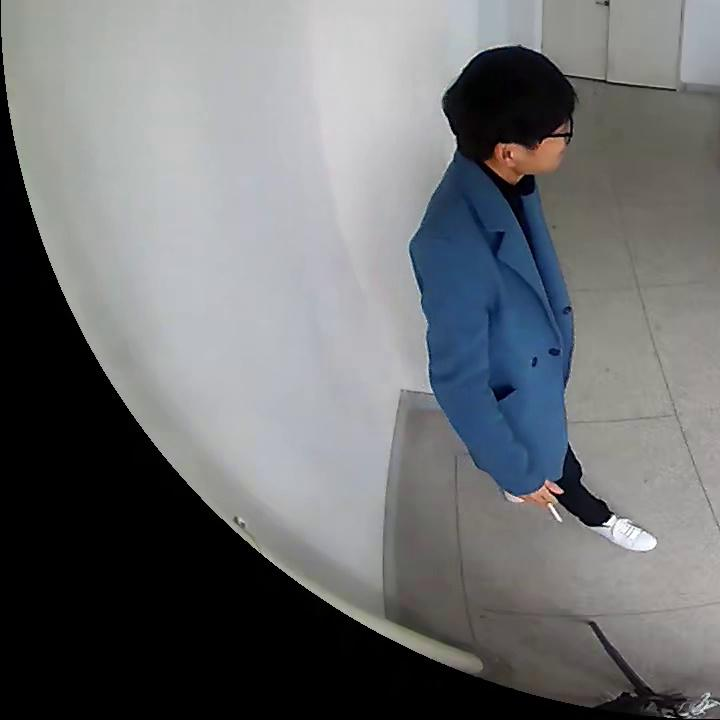handsmoke: (539, 480, 564, 525)
mouthwithoutsmoke: (443, 46, 571, 176)
